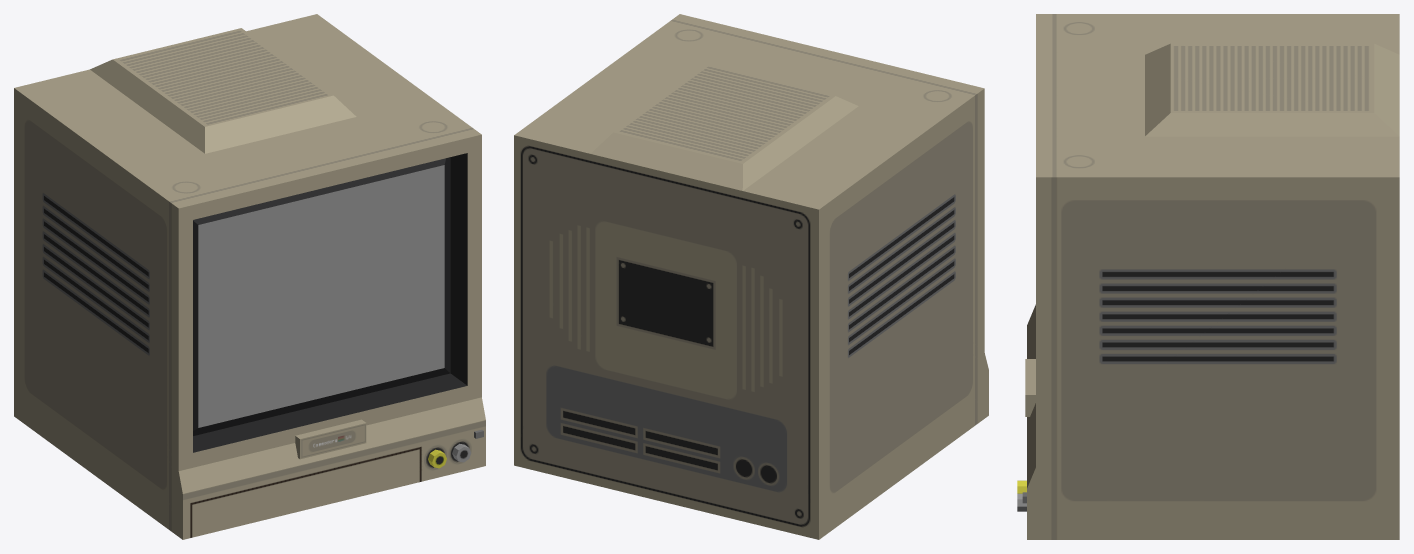
File: TEST_mdl_CRTMonitor3.glb
The picture shows the model from 3 angles, left to right: view 1: azimuth 30°, elevation 25°; view 2: azimuth 150°, elevation 25°; view 3: azimuth 270°, elevation 25°; orthographic projection. The views are drawn at different scales.
Parts seen in each view (by area): view 1: Monitor:Monitor; view 2: Monitor:Monitor; view 3: Monitor:Monitor.
Part boxes in pixels (<box>): Monitor:Monitor: <box>14,14,485,539</box>; Monitor:Monitor: <box>514,14,988,539</box>; Monitor:Monitor: <box>1017,14,1399,539</box>.
Size of the model in its own units: 0.0329 by 0.0359 by 0.0325.
1 material, 1 textured.
